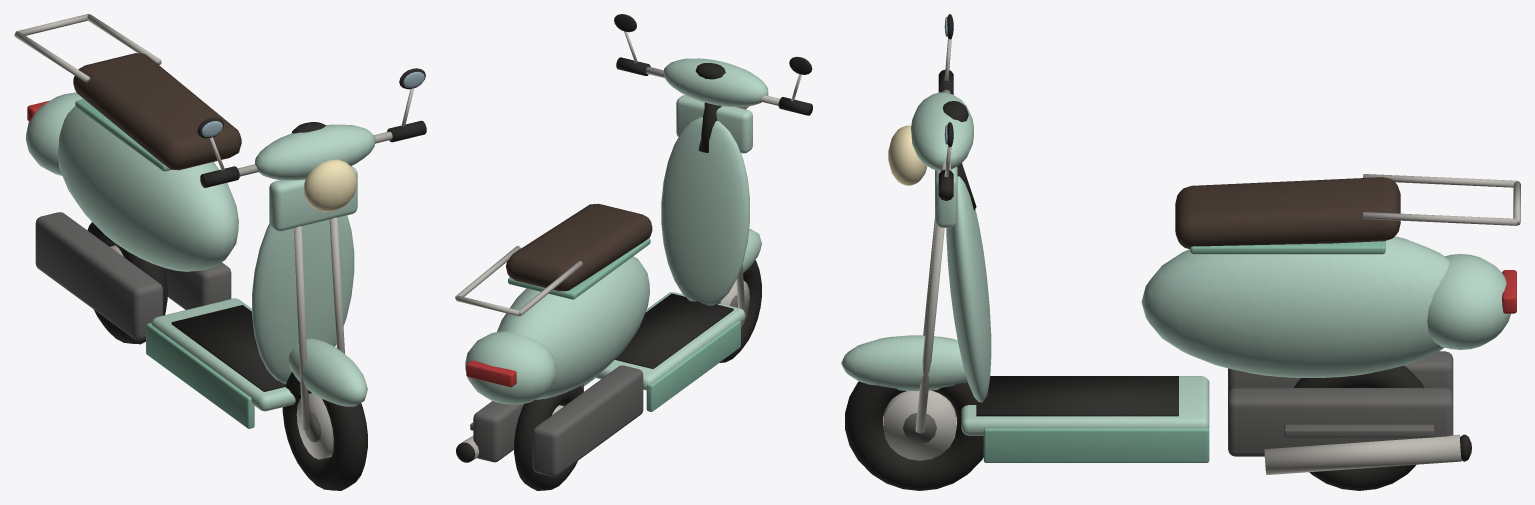
File: tm-scooter.glb
3 views of the same model, side by side, from view 1: azimuth 30°, elevation 25°; view 2: azimuth 150°, elevation 25°; view 3: azimuth 270°, elevation 25° (orthographic). The views are drawn at different scales.
Parts seen in each view (by area): view 1: tm-scooter; view 2: tm-scooter; view 3: tm-scooter.
Part boxes in pixels (x1,y1,x2,y2): tm-scooter: (14,14,426,490); tm-scooter: (455,14,812,490); tm-scooter: (841,14,1520,490).
Size of the model in its own units: 0.77 by 1.23 by 1.81.
Materials: 1 (1 with a texture image).
